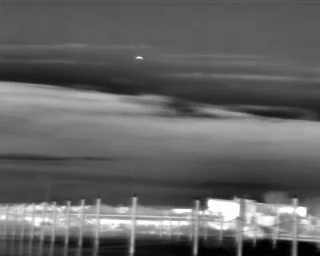BIRD: (133, 53, 145, 64)
